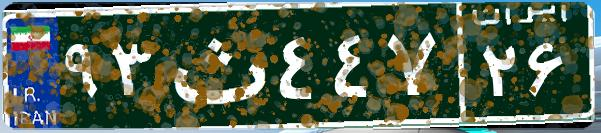2: (475, 38, 525, 113)
3: (110, 28, 158, 105)
4: (273, 28, 330, 110), (330, 28, 385, 110)
6: (525, 38, 570, 115)
7: (385, 28, 445, 110)
9: (57, 26, 110, 107)
ث: (158, 15, 273, 115)
